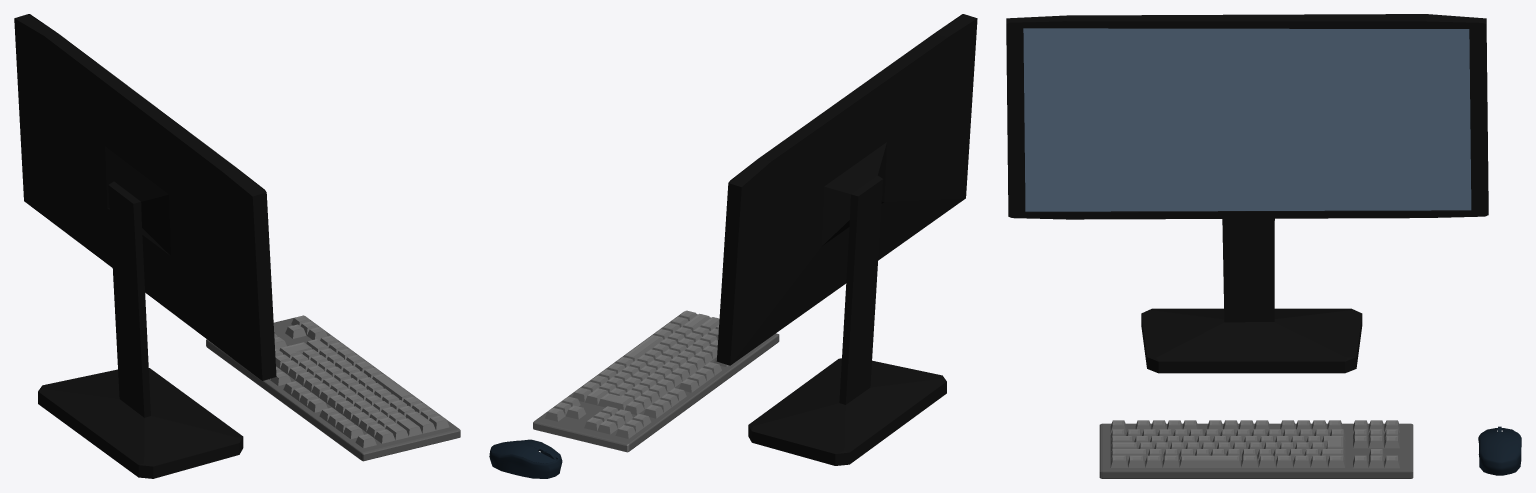
The model's file is monator.fbx.
3 views of the same model, side by side, from view 1: azimuth 30°, elevation 25°; view 2: azimuth 150°, elevation 25°; view 3: azimuth 270°, elevation 25° (orthographic). The views are drawn at different scales.
Visible parts, largest first — view 1: Cube, Plane.013; view 2: Cube, Plane.013, Cube.001; view 3: Cube, Plane.013, Cube.001.
Part boxes in pixels (x1,y1,x2,y2): Cube: (14, 14, 276, 478); Plane.013: (206, 315, 460, 461); Cube: (716, 14, 977, 465); Plane.013: (533, 310, 779, 452); Cube.001: (489, 439, 562, 478); Cube: (1006, 14, 1488, 373); Plane.013: (1099, 420, 1413, 478); Cube.001: (1478, 426, 1521, 475).
Bounding box in the file's own units: 613 × 678 × 925.
